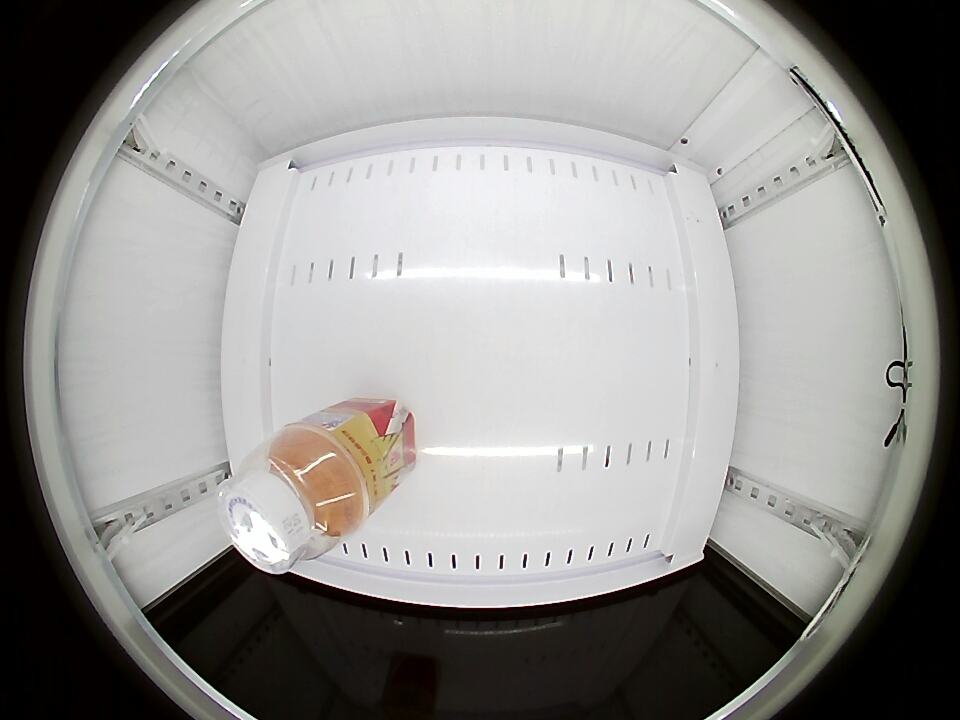dongpeng-b: (218, 425, 367, 572)
